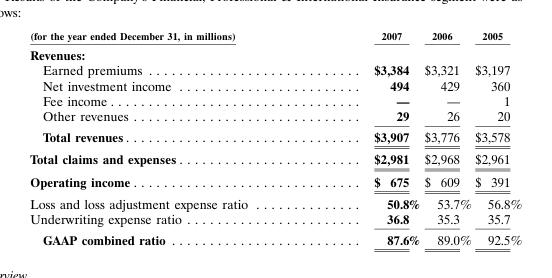table: (29, 29, 521, 246)
table column: (29, 29, 310, 246), (310, 29, 421, 246), (421, 29, 472, 246), (472, 29, 521, 246)
table column header: (29, 29, 521, 44)
table projected row header: (29, 44, 521, 62)
table row: (29, 169, 521, 192), (29, 147, 521, 169), (29, 126, 521, 147), (29, 192, 521, 211), (29, 44, 521, 62), (29, 108, 521, 126), (29, 228, 521, 246), (29, 211, 521, 228), (29, 92, 521, 108), (29, 29, 521, 44), (29, 62, 521, 77), (29, 77, 521, 92)
